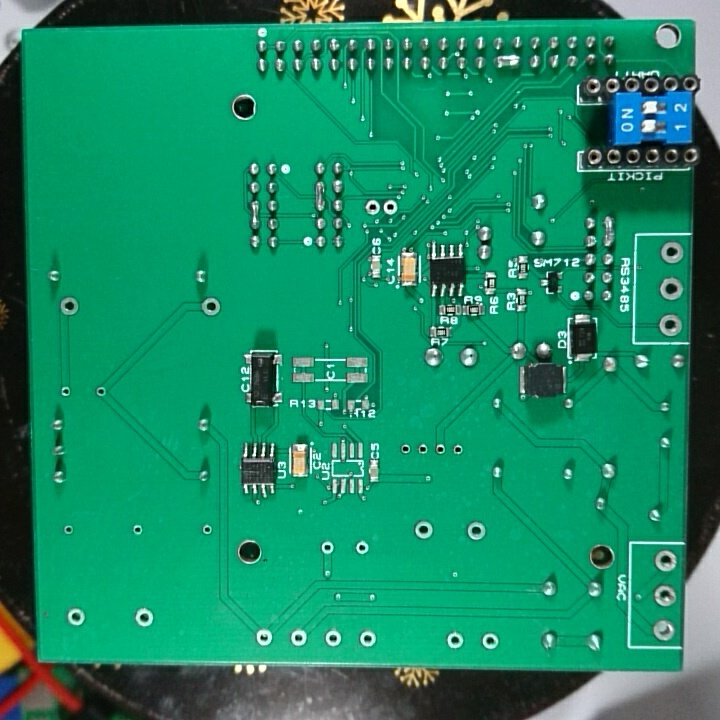F: (656, 237, 687, 267), (657, 274, 686, 305), (650, 616, 678, 644), (653, 582, 680, 610), (658, 312, 685, 339), (196, 295, 224, 321), (653, 547, 678, 576), (464, 520, 490, 547), (412, 517, 437, 545), (57, 294, 82, 320), (65, 604, 88, 632), (323, 627, 347, 653), (132, 606, 155, 633), (288, 625, 311, 651), (380, 194, 400, 223), (253, 627, 276, 651), (360, 196, 383, 220), (445, 630, 468, 653), (480, 631, 503, 653), (357, 627, 379, 650), (197, 521, 218, 542), (318, 538, 337, 559), (353, 538, 372, 559), (57, 382, 75, 404), (60, 520, 80, 539), (130, 521, 150, 540), (398, 439, 415, 461), (94, 381, 111, 403), (415, 439, 431, 462), (433, 440, 449, 461), (451, 440, 467, 460)
P: (246, 197, 266, 234), (311, 178, 329, 213), (601, 211, 618, 248), (493, 51, 524, 71)
